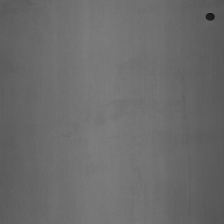punching_hole: (204, 10, 216, 22)
